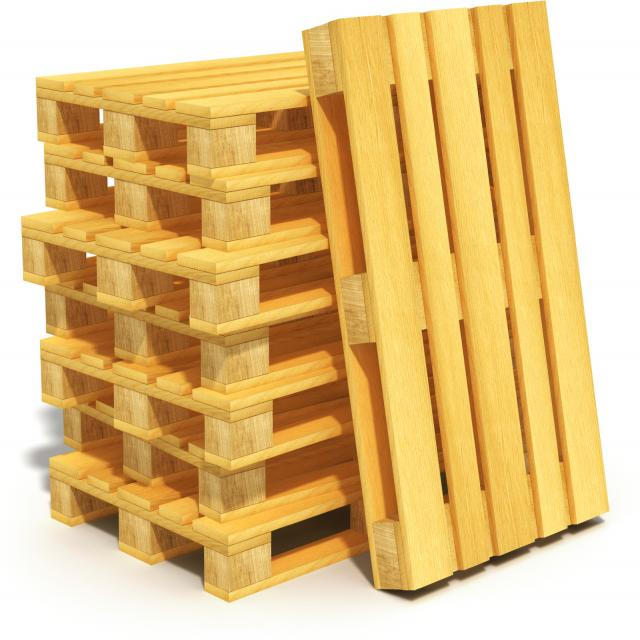Palette: (23, 49, 372, 602), (297, 1, 614, 603)
